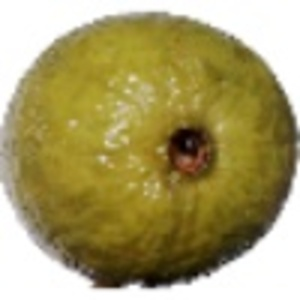goiaba: (5, 10, 297, 281)
